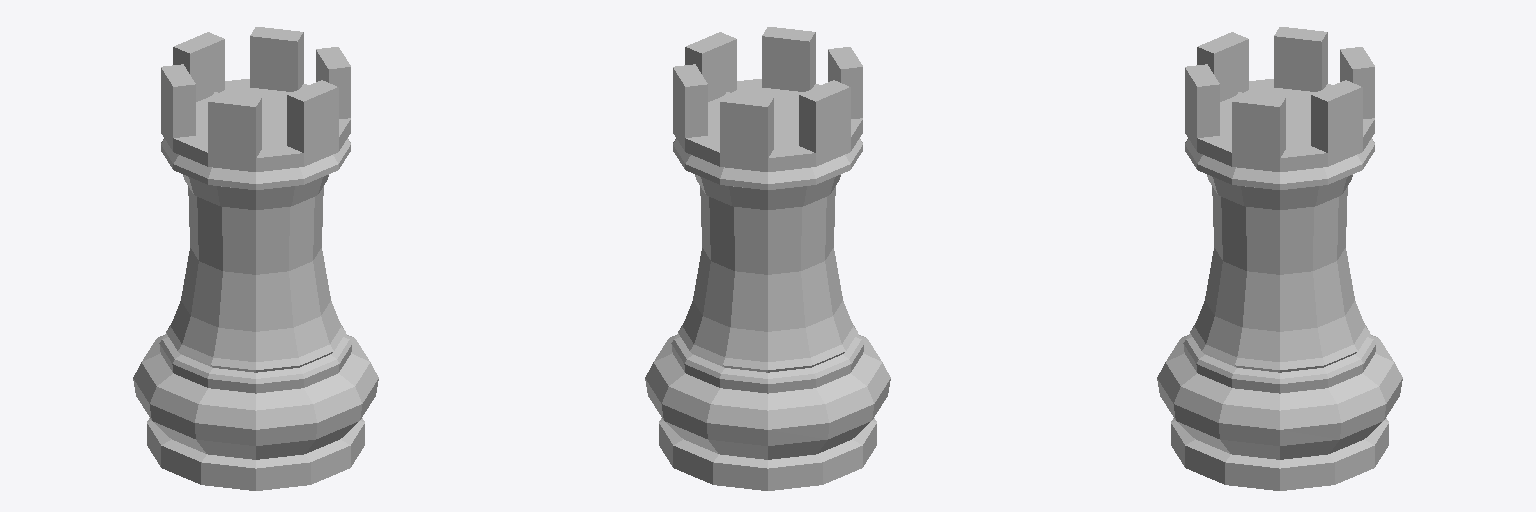
The model's file is GRook.obj.
3 renders of one model, left to right at view 1: azimuth 30°, elevation 25°; view 2: azimuth 150°, elevation 25°; view 3: azimuth 270°, elevation 25°, orthographic.
Visible parts, largest first — view 1: Tower; view 2: Tower; view 3: Tower.
Part boxes in pixels (left/top/right/bottom): Tower: left=133, top=27, right=378, bottom=490; Tower: left=645, top=27, right=890, bottom=490; Tower: left=1157, top=27, right=1402, bottom=490.
Bounding box in the file's own units: 0.1964 × 0.3336 × 0.1964.